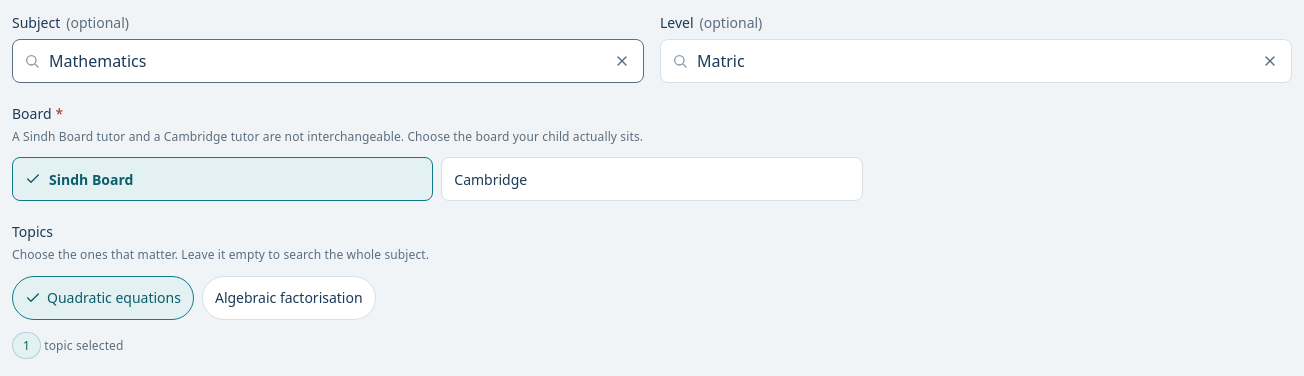
CurriculumPicker › clears selected topics when the board changes
What coordinates should you click on to do the following:
click the radio button labelled "Cambridge"
I would click on:
 (491, 179)
Its box is x1=441 y1=157 x2=863 y2=201.
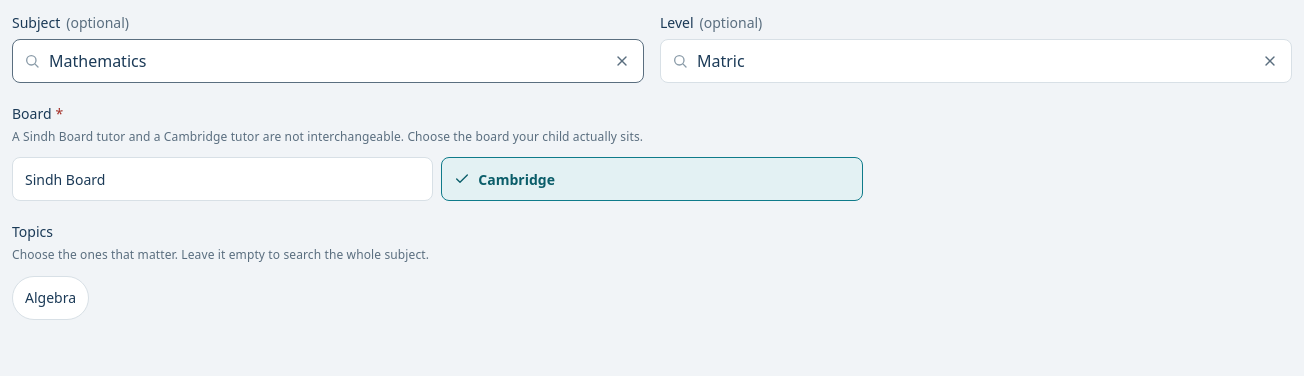
Result: the button "Quadratic equations" is gone
